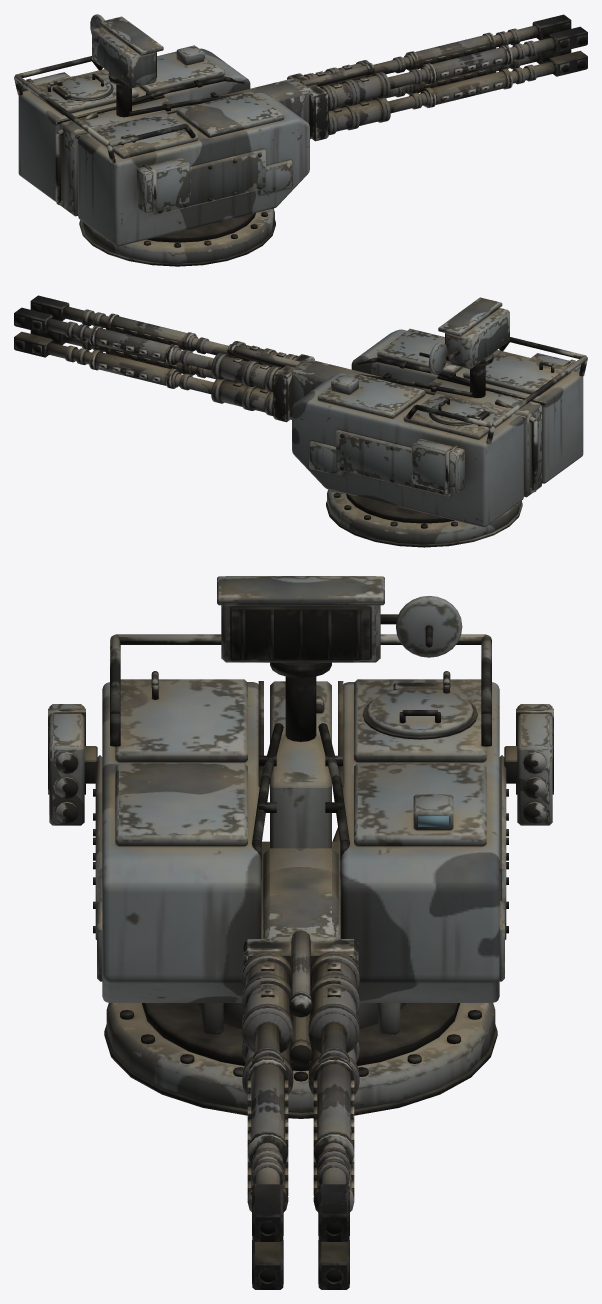
The model's file is turret_kit_quad_shark.glb.
The picture shows the model from 3 angles, top to bottom: view 1: azimuth 30°, elevation 25°; view 2: azimuth 150°, elevation 25°; view 3: azimuth 270°, elevation 25°; orthographic projection. The views are drawn at different scales.
Parts seen in each view (by area): view 1: turret_twin_quad, guns, pods; view 2: turret_twin_quad, guns, pods; view 3: turret_twin_quad, guns, pods.
Part boxes in pixels (bbox=[...]): turret_twin_quad: bbox=[14, 14, 309, 266]; guns: bbox=[220, 14, 587, 141]; pods: bbox=[20, 72, 190, 213]; turret_twin_quad: bbox=[292, 297, 587, 547]; guns: bbox=[14, 295, 382, 422]; pods: bbox=[411, 353, 581, 494]; turret_twin_quad: bbox=[93, 576, 508, 1118]; guns: bbox=[242, 848, 359, 1289]; pods: bbox=[48, 704, 553, 825].
Size of the model in its own units: 2.7 by 1.01 by 1.15.
4 materials, 3 textured.
